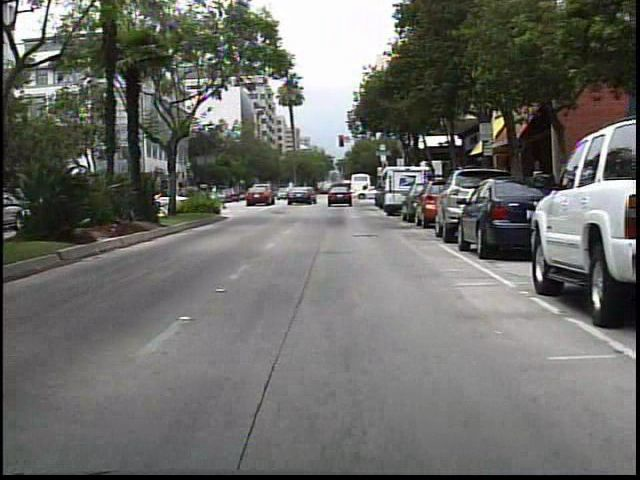person: (356, 180, 372, 202), (297, 183, 311, 205)
